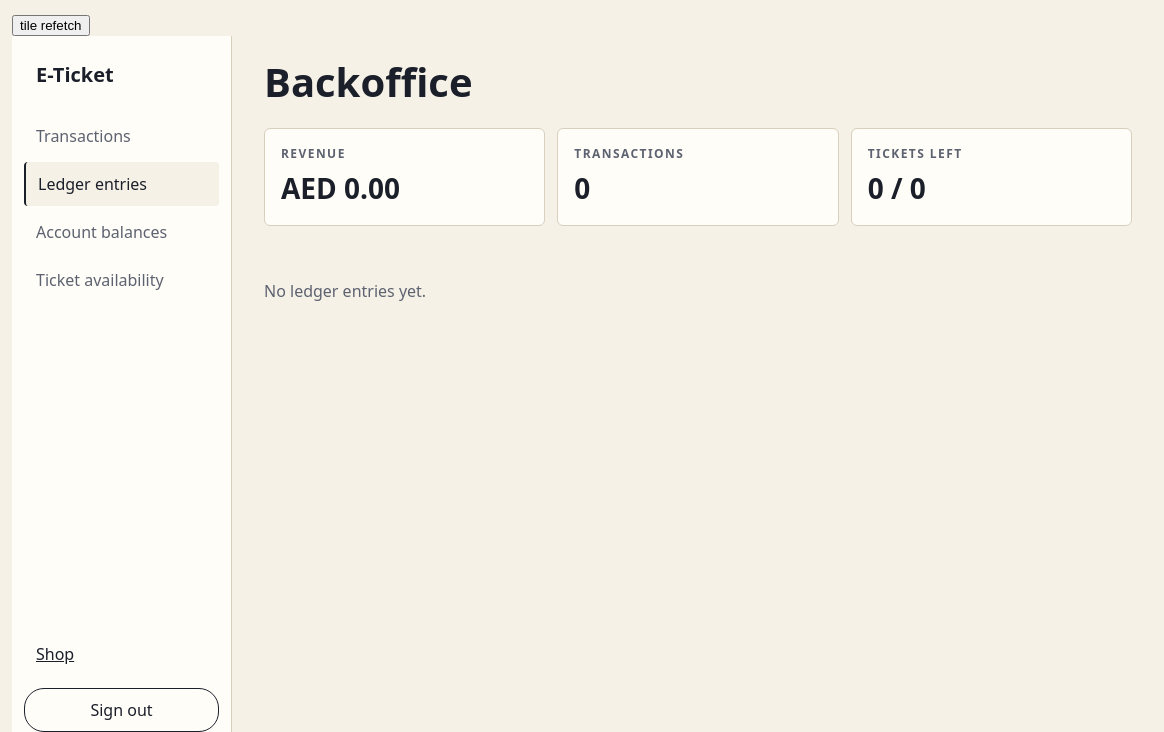
Scenario: backoffice freshness › does not re-render the summary tiles on a tab change
Expected: the text "No ledger entries yet." is shown, [264,280,426,302]
Expected: the element "Revenue" does not show "…", [264,128,545,226]
Step 1. Click the tab "Account balances" → (122, 232), box [24,210,219,254]
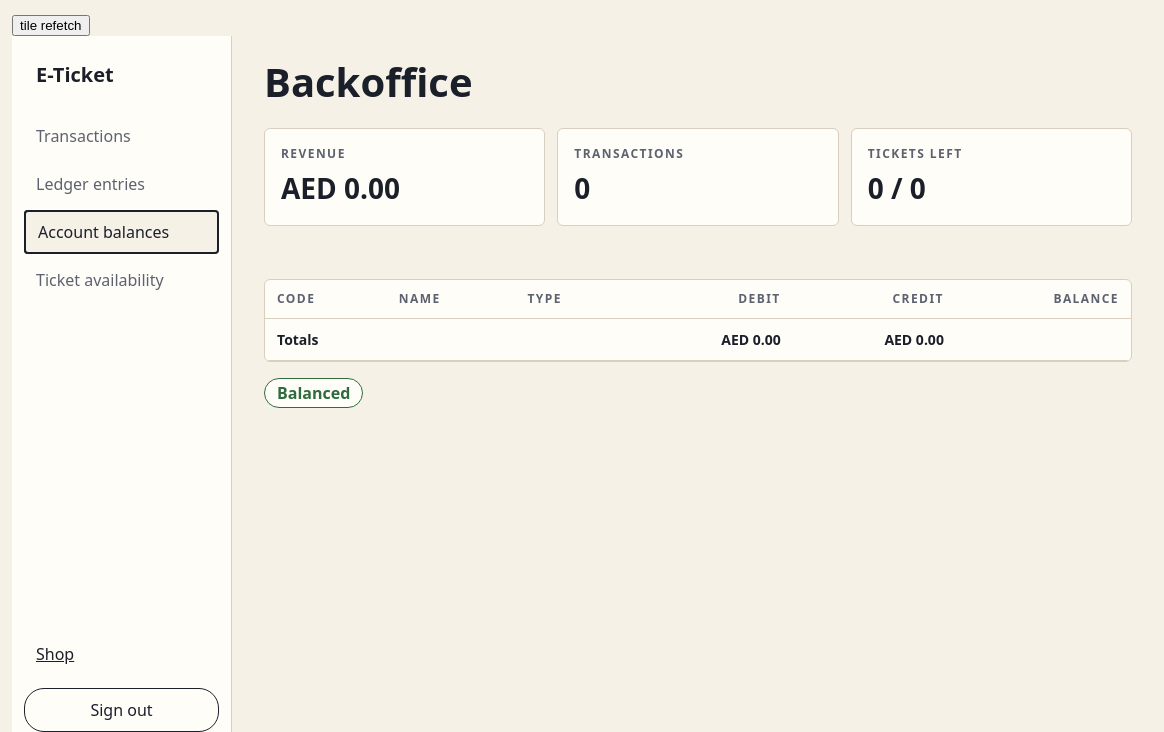
Expected: the text "Balanced" is shown, [264,378,363,408]
